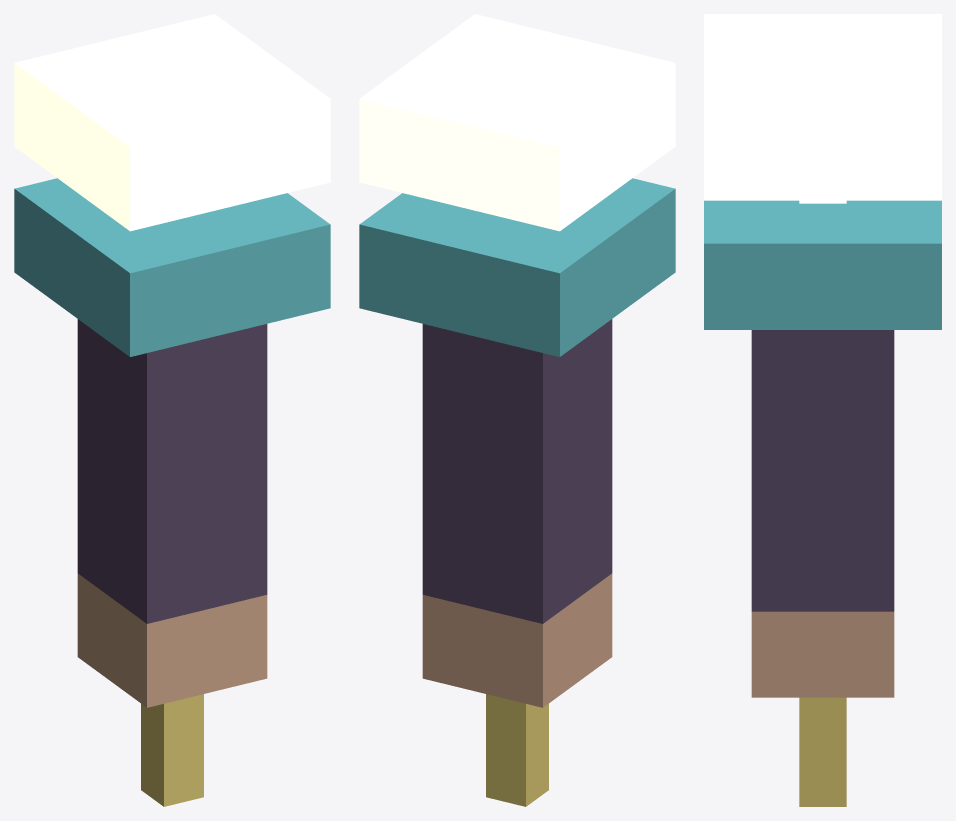
The model's file is logic_probe.glb.
3 views of the same model, side by side, from view 1: azimuth 30°, elevation 25°; view 2: azimuth 150°, elevation 25°; view 3: azimuth 270°, elevation 25° (orthographic). The views are drawn at different scales.
Visible parts, largest first — view 1: LogicProbeBody, LogicProbeRing; view 2: LogicProbeBody, LogicProbeRing; view 3: LogicProbeBody, LogicProbeRing.
Boxes of the visible parts, x1,y1,x2,y2 form: LogicProbeBody: (14,178,330,806); LogicProbeRing: (14,14,330,231); LogicProbeBody: (359,178,675,806); LogicProbeRing: (359,14,675,231); LogicProbeBody: (704,200,941,806); LogicProbeRing: (704,14,941,200).
Size of the model in its own units: 0.05 by 0.17 by 0.05.
